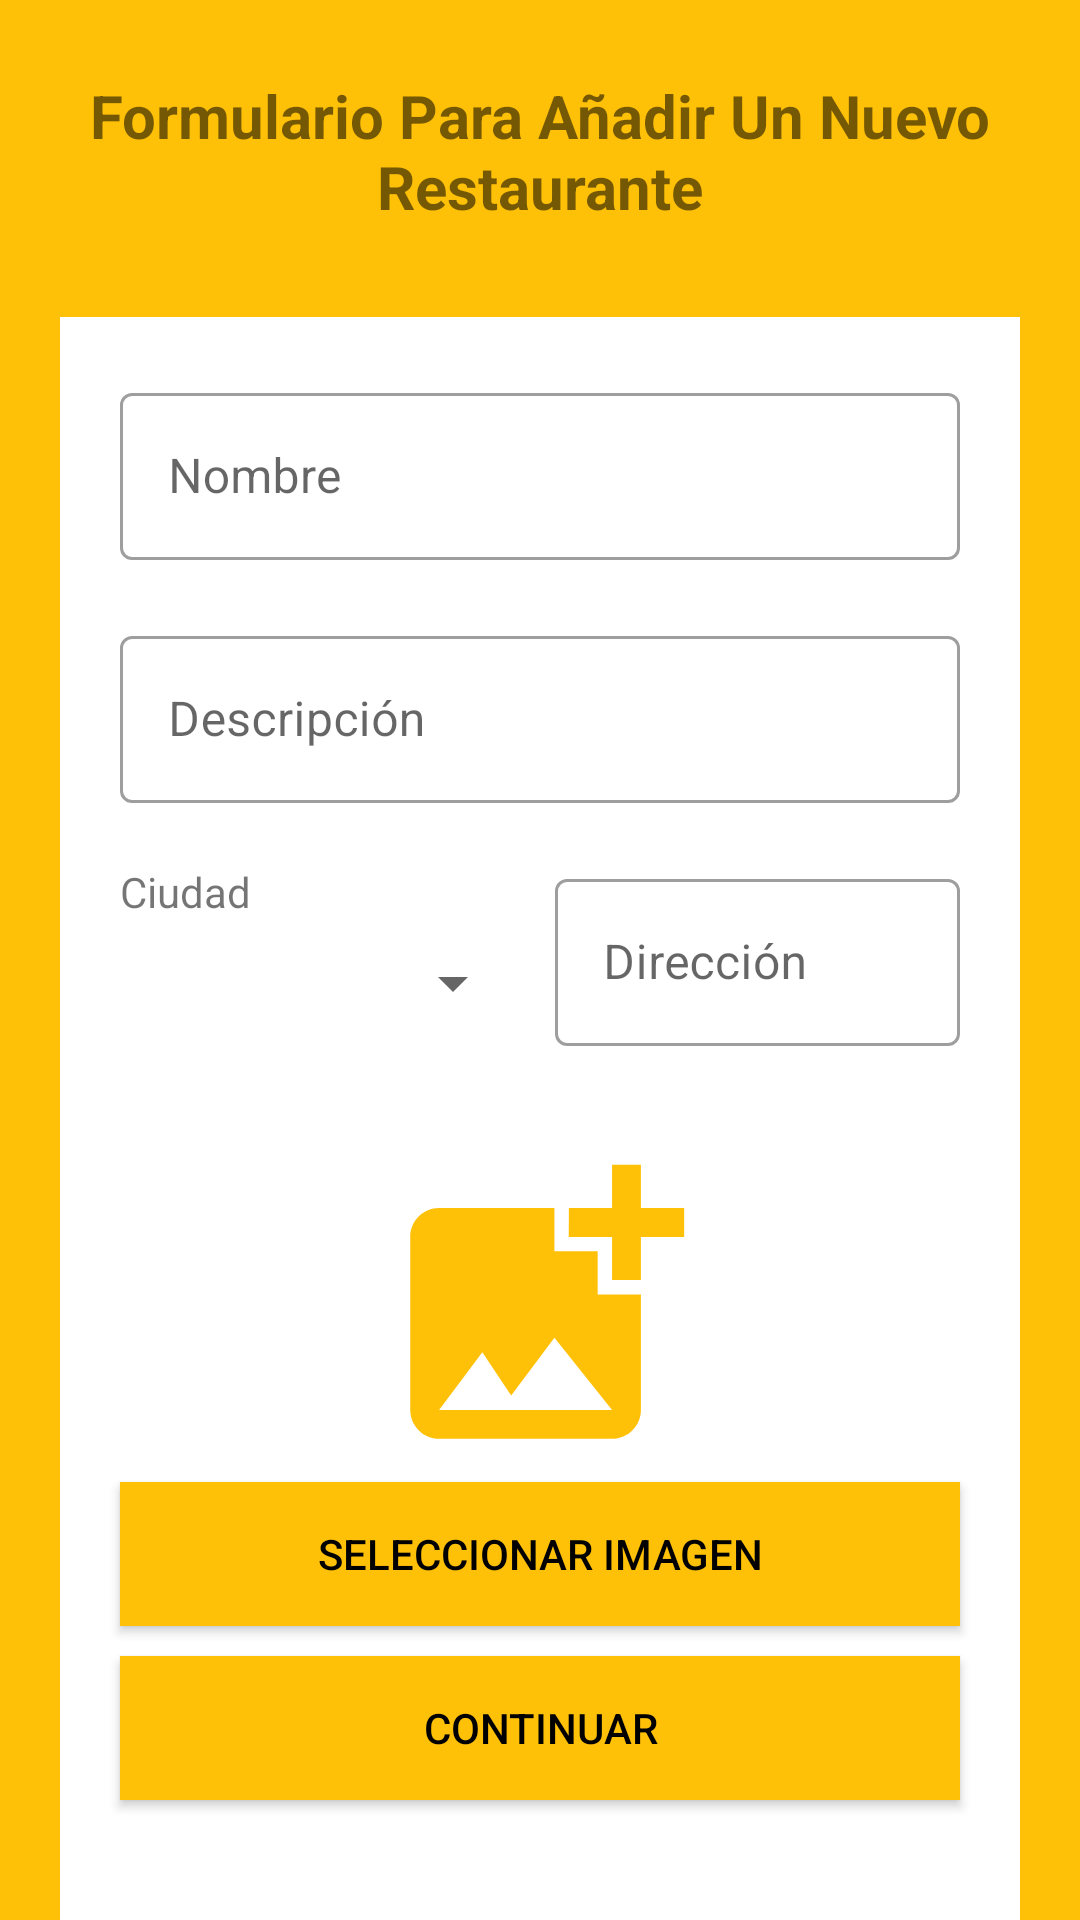

Icon click points for this 1080 × 1920 phone screenshot, format [x,y]:
add photo alternate: [547,1301]
